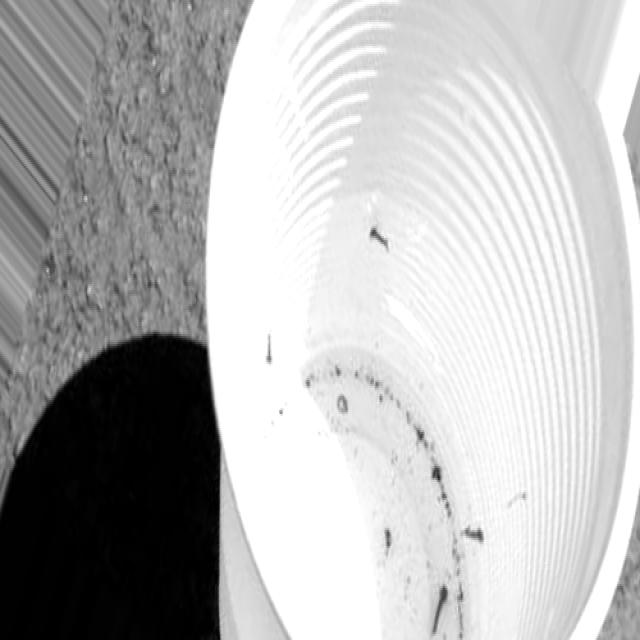larvas: (433, 584, 449, 628), (463, 528, 485, 545), (371, 228, 387, 245), (511, 491, 527, 504), (338, 395, 346, 414), (268, 334, 272, 364)
